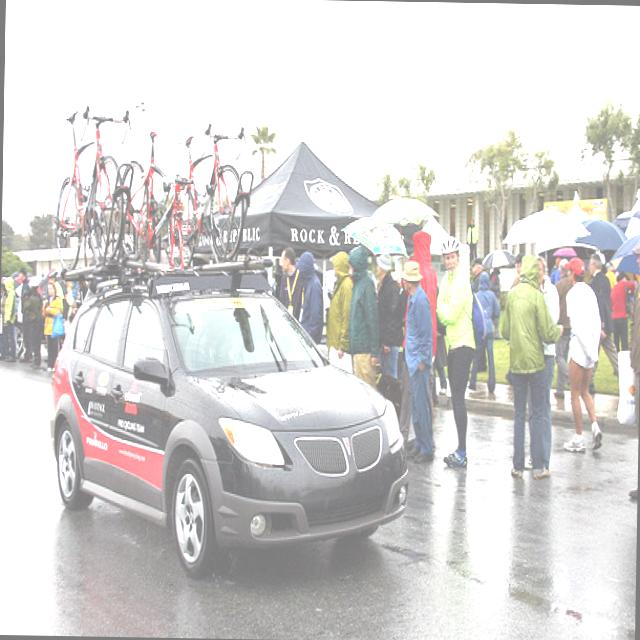Vehicle: (48, 289, 411, 578), (29, 272, 47, 296)
